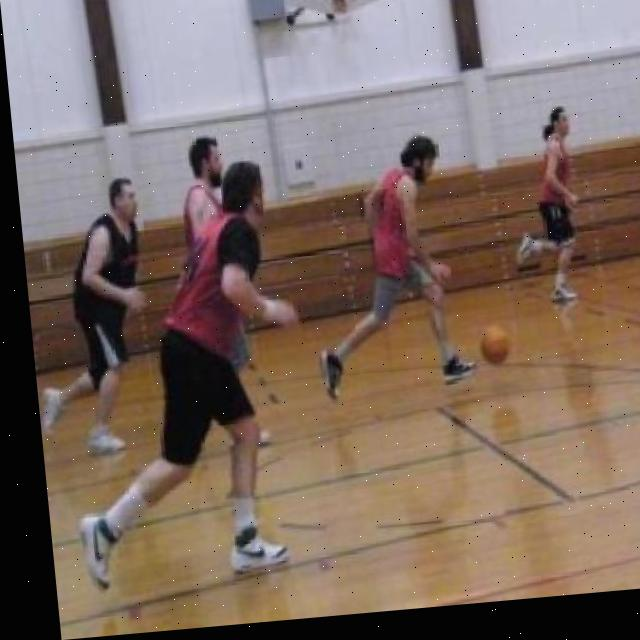basketball: (469, 316, 516, 371)
hoop: (320, 0, 372, 47)
